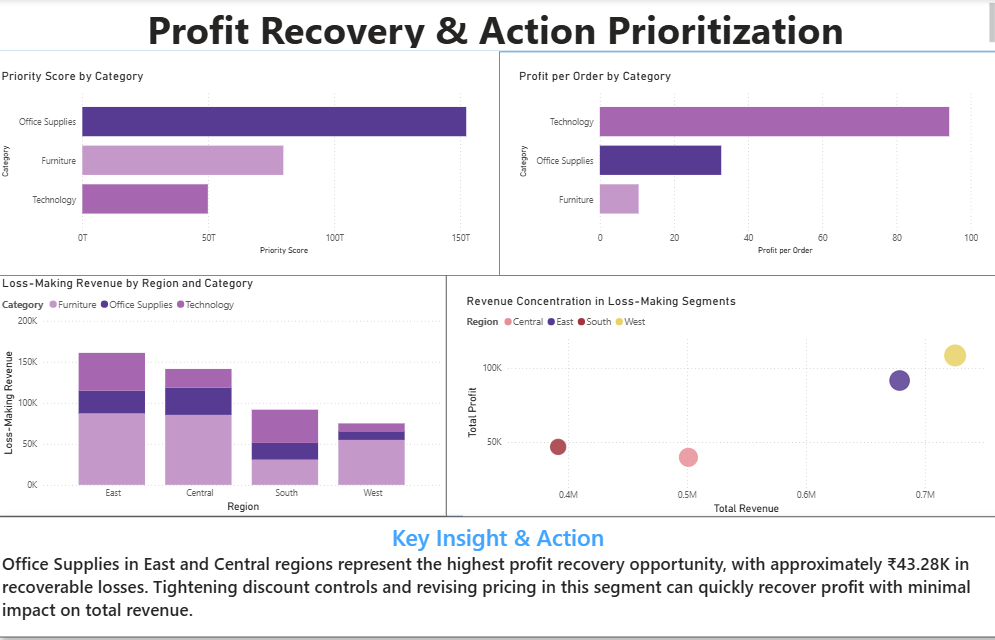

This screenshot's page, from the dashboard's own definition file:
{"tool":"powerbi","page":{"name":"Page 3","canvas":[1400,900],"ordinal":2},"visuals":[{"type":"shape","box":[0,-12,1392,912],"z":0},{"type":"shape","box":[0,0,1392,72],"z":1000},{"type":"shape","box":[0,384,1392,336],"z":2000},{"type":"shape","box":[696,72,696,312],"z":3000},{"type":"barChart","fields":{"Category":["Sample - Superstore.Category"],"Y":["Sample - Superstore.Priority Score"]},"box":[0,96,696,264],"z":4000},{"type":"barChart","fields":{"Category":["Sample - Superstore.Category"],"Y":["Sample - Superstore.Profit per Order"]},"box":[720,96,648,264],"z":5000},{"type":"scatterChart","title":"Revenue Concentration in Loss-Making Segments","fields":{"X":["Sample - Superstore.Total Revenue"],"Y":["Sample - Superstore.Total Profit"],"Size":["Sample - Superstore.Order Volume"],"Category":["Sample - Superstore.Region"],"Series":["Sample - Superstore.Region"]},"box":[648,408,744,312],"z":6000},{"type":"columnChart","fields":{"Category":["Sample - Superstore.Region"],"Y":["Sample - Superstore.Loss-Making Revenue"],"Series":["Sample - Superstore.Category"]},"box":[0,384,624,336],"z":7000},{"type":"textbox","box":[0,720,1392,168],"z":8000},{"type":"textbox","box":[0,0,1392,72],"z":9000}]}

Visuals, with their boxes in screenshot pixels (x1, y1, x2, y2), scaled from the page's 1400x900 canvas onto the 995x640 screenshot:
shape: left=0, top=0, right=989, bottom=639
shape: left=0, top=0, right=989, bottom=51
shape: left=0, top=273, right=989, bottom=512
shape: left=495, top=51, right=989, bottom=273
barChart - Sample - Superstore.Category x Sample - Superstore.Priority Score: left=0, top=68, right=495, bottom=256
barChart - Sample - Superstore.Category x Sample - Superstore.Profit per Order: left=512, top=68, right=972, bottom=256
"Revenue Concentration in Loss-Making Segments" scatterChart: left=461, top=290, right=989, bottom=512
columnChart - Sample - Superstore.Region x Sample - Superstore.Loss-Making Revenue: left=0, top=273, right=443, bottom=512
textbox: left=0, top=512, right=989, bottom=631
textbox: left=0, top=0, right=989, bottom=51
